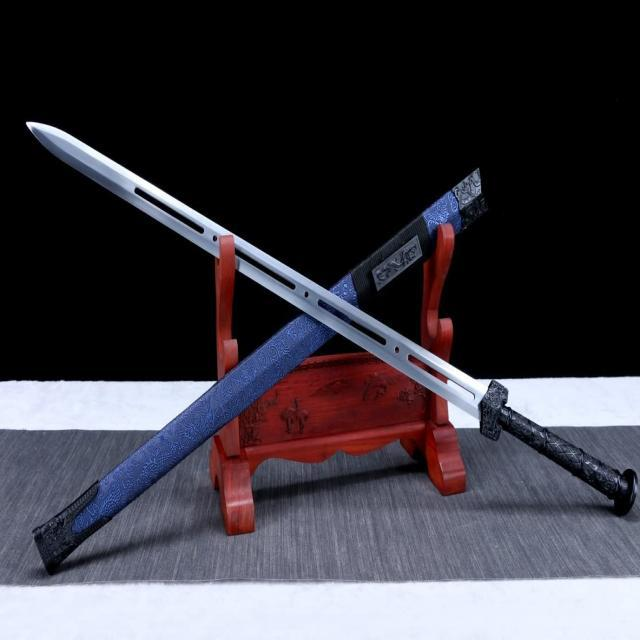sword: (26, 117, 638, 521)
